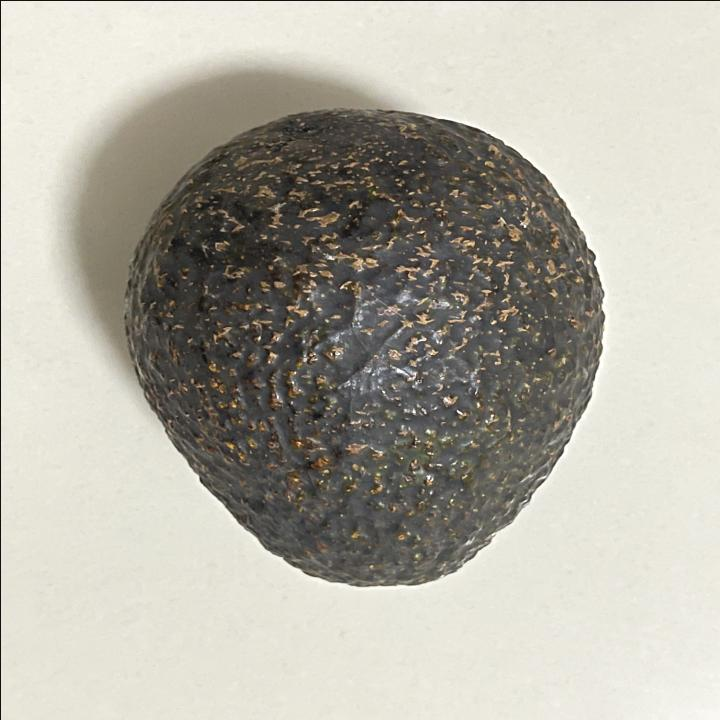Level2: (112, 100, 616, 596)
